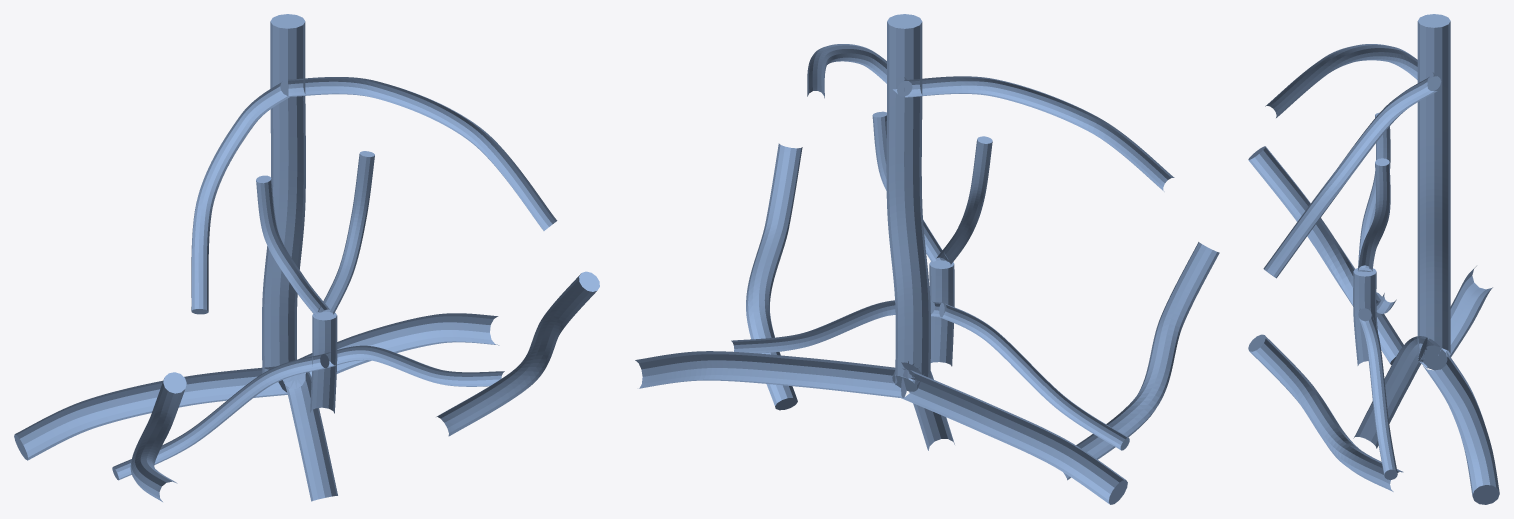
The model's file is venous_trolard.glb.
3 renders of one model, left to right at view 1: azimuth 30°, elevation 25°; view 2: azimuth 150°, elevation 25°; view 3: azimuth 270°, elevation 25°, orthographic. The views are drawn at different scales.
Parts seen in each view (by area): view 1: Seio sagital superior, Seio transverso E, Veia de Trolard — D, Cerebral média superficial — D, Veia de Trolard — E, Seio transverso D, Seio reto, Veia basal de Rosenthal — E, Cerebral média superficial — E, Veia basal de Rosenthal — D, Veia cerebral interna — D, Veia cerebral interna — E (+1 smaller); view 2: Seio sagital superior, Seio transverso D, Seio transverso E, Cerebral média superficial — E, Cerebral média superficial — D, Veia de Trolard — E, Veia basal de Rosenthal — E, Veia basal de Rosenthal — D, Grande veia cerebral, Veia de Trolard — D, Veia cerebral interna — E, Seio reto (+1 smaller); view 3: Seio sagital superior, Cerebral média superficial — D, Cerebral média superficial — E, Veia de Trolard — D, Seio transverso D, Veia de Trolard — E, Seio reto, Veia basal de Rosenthal — D, Seio transverso E, Veia cerebral interna — D, Grande veia cerebral, Veia cerebral interna — E (+1 smaller).
Part boxes in pixels (x1,y1,x2,y2): Seio sagital superior: (262, 14, 305, 373); Seio transverso E: (14, 366, 287, 460); Veia de Trolard — D: (288, 77, 557, 230); Cerebral média superficial — D: (436, 271, 599, 436); Veia de Trolard — E: (191, 82, 290, 314); Seio transverso D: (278, 313, 499, 392); Seio reto: (283, 372, 337, 501); Veia basal de Rosenthal — E: (112, 354, 325, 480); Cerebral média superficial — E: (130, 372, 186, 501); Veia basal de Rosenthal — D: (320, 345, 504, 386); Veia cerebral interna — D: (318, 151, 374, 314); Veia cerebral interna — E: (256, 175, 329, 316); Seio sagital superior: (886, 14, 930, 384); Seio transverso D: (635, 351, 907, 398); Seio transverso E: (900, 370, 1127, 504); Cerebral média superficial — E: (1063, 242, 1219, 480); Cerebral média superficial — D: (746, 143, 802, 410); Veia de Trolard — E: (904, 76, 1174, 191); Veia basal de Rosenthal — E: (939, 303, 1129, 450); Veia basal de Rosenthal — D: (731, 300, 944, 353); Grande veia cerebral: (929, 260, 954, 366); Veia de Trolard — D: (807, 44, 912, 98); Veia cerebral interna — E: (936, 136, 992, 264); Seio reto: (892, 361, 954, 450); Seio sagital superior: (1417, 14, 1450, 353); Cerebral média superficial — D: (1248, 334, 1403, 491); Cerebral média superficial — E: (1248, 146, 1403, 364); Veia de Trolard — D: (1263, 77, 1437, 278); Seio transverso D: (1423, 351, 1499, 504); Veia de Trolard — E: (1265, 44, 1441, 117); Seio reto: (1353, 336, 1441, 448); Veia basal de Rosenthal — D: (1359, 315, 1397, 479); Seio transverso E: (1421, 266, 1492, 370); Veia cerebral interna — D: (1358, 158, 1390, 271); Grande veia cerebral: (1353, 268, 1377, 365); Veia cerebral interna — E: (1357, 112, 1390, 271).
Size of the model in its own units: 6.1 by 5.46 by 2.91.
